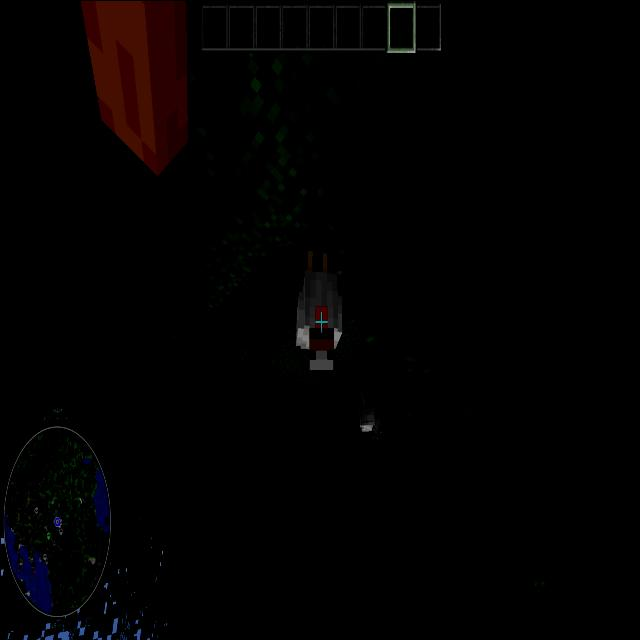chicken: (282, 216, 356, 392), (350, 384, 398, 454)
